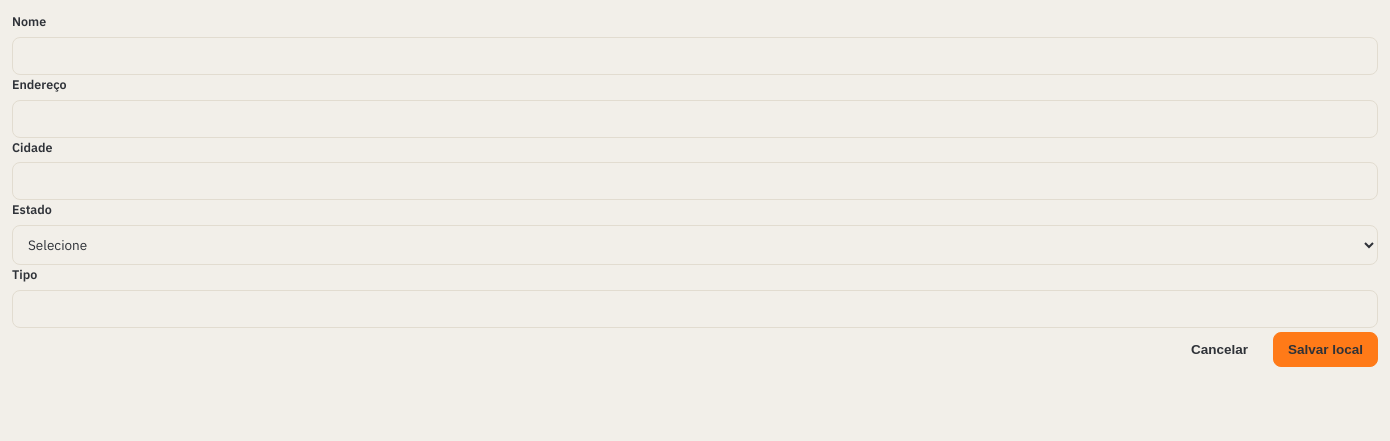
Test: EventVenueForm › mostra a mensagem de erro da API quando o salvamento falha
This screenshot has width=1390, height=441.
Step 1. Type "Buffet Jardim das Rosas" into the field labelled "Nome" → [695, 56], box 12,37 -> 1378,75
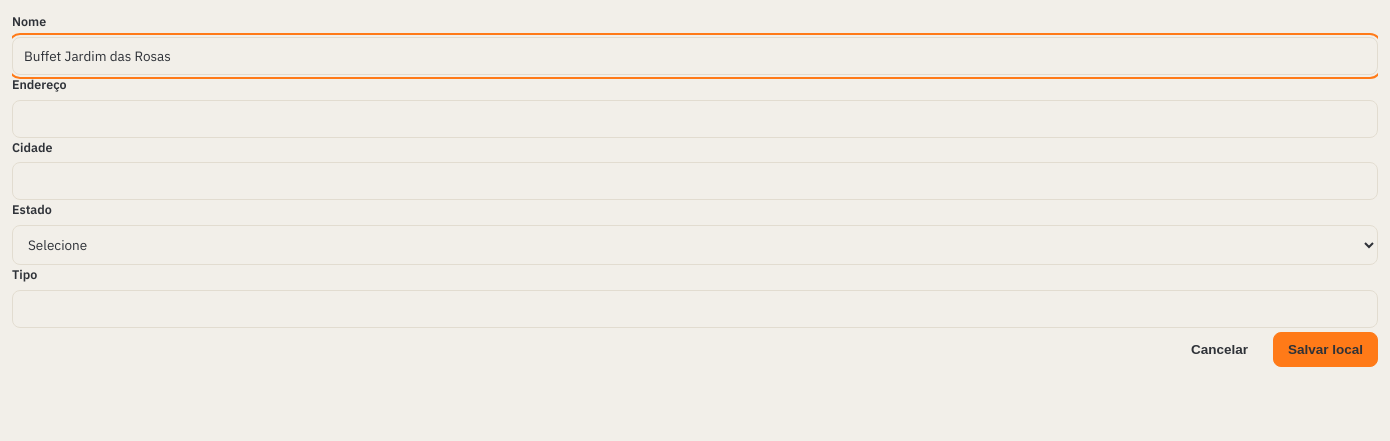
Step 2. Click the button "Salvar local" → [1325, 349], box 1273,332 -> 1378,367
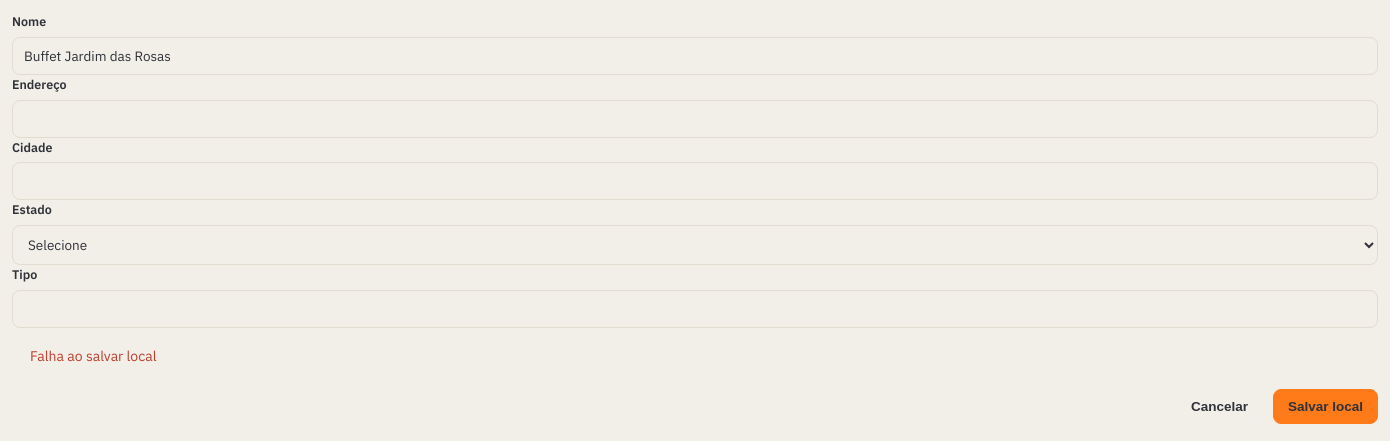
Now the text "Falha ao salvar local" is shown, box 30,347 -> 156,365
